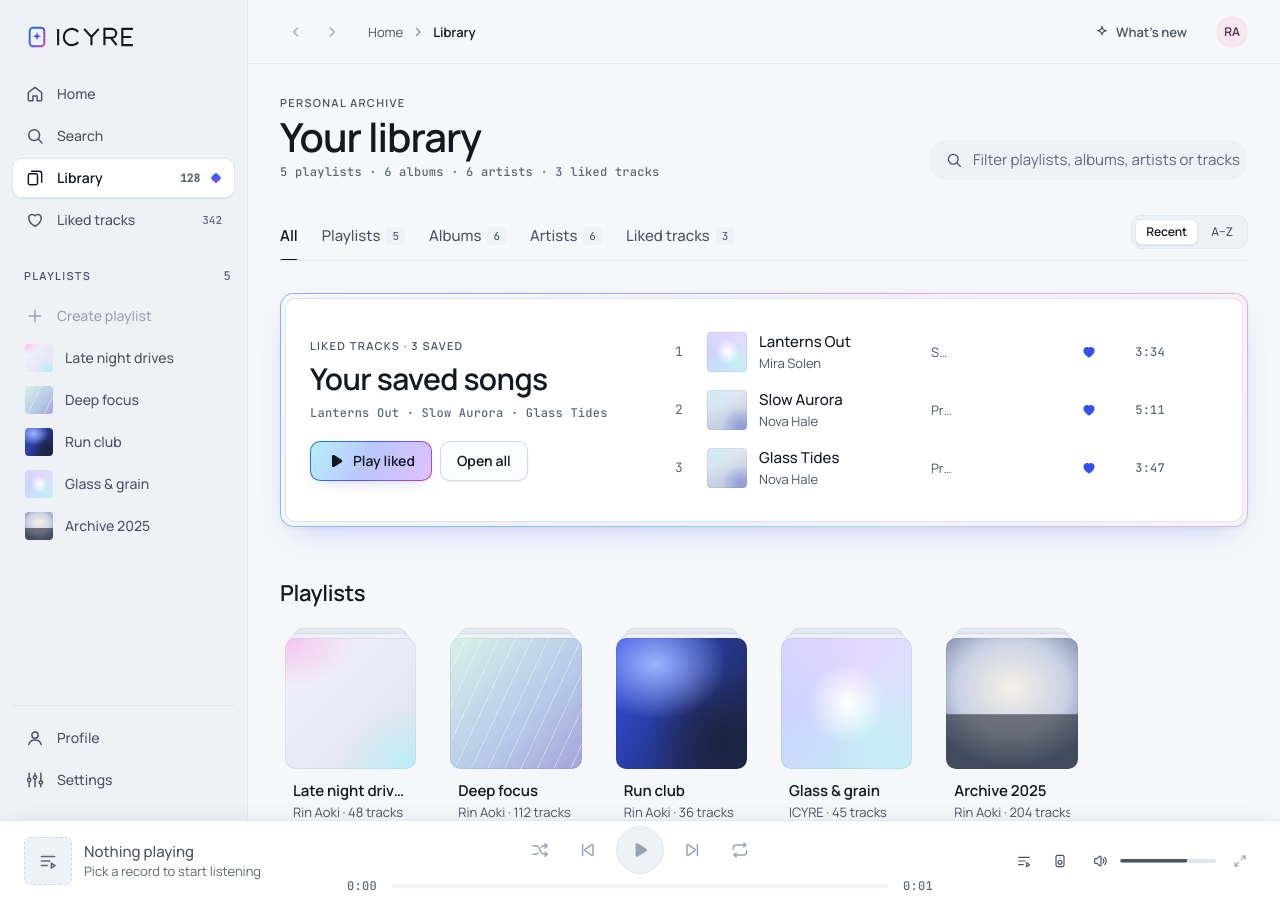
Test case: Library screen › filters library items and clears empty filter state
This screenshot has width=1280, height=900.
Check: the heading "Your library" is shown, box top-left (280, 109), bottom-right (481, 164)
Step 1. Type "Salt Lanterns" into the search field named "Filter library" → (1107, 160), box top-left (971, 148), bottom-right (1243, 172)
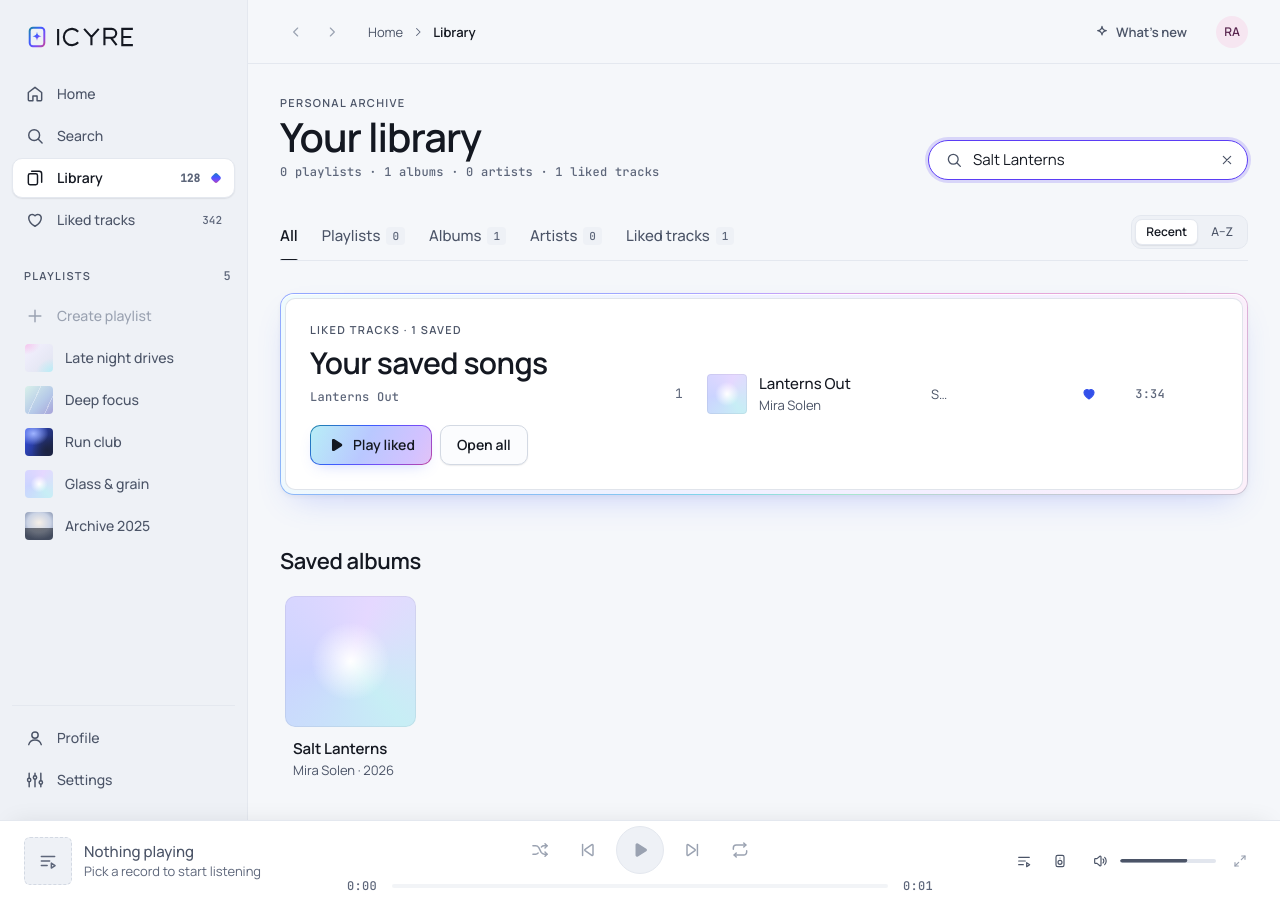
Check: the button "Salt Lanterns Mira Solen · 2026" is shown, box top-left (285, 727), bottom-right (416, 787)
Step 2. Clear the search field named "Filter library" → (1087, 160), box top-left (971, 148), bottom-right (1203, 172)
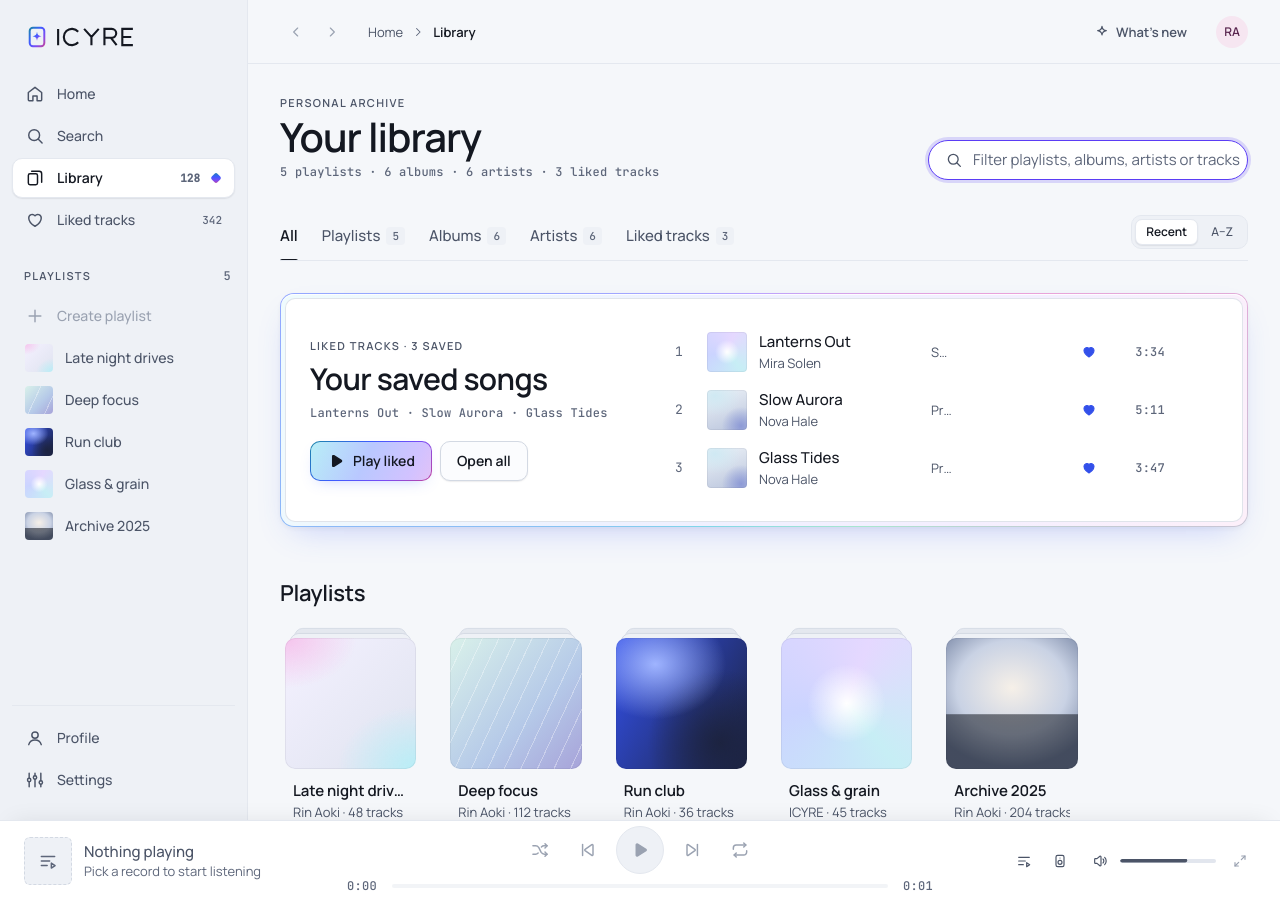
Step 3. Type "nonexistent-xyz" into the search field named "Filter library" → (1107, 160), box top-left (971, 148), bottom-right (1243, 172)
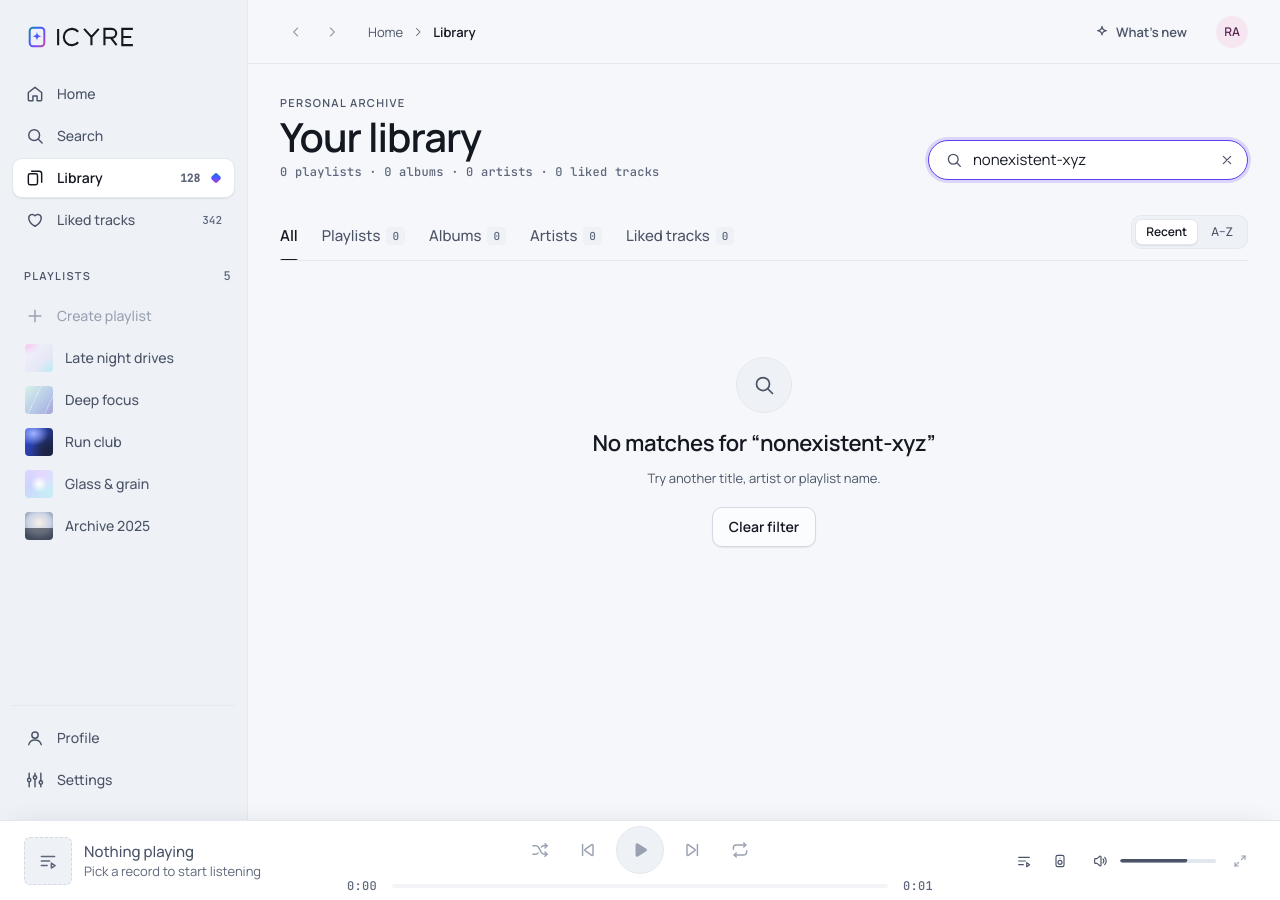
Check: the heading "No matches for “nonexistent-xyz”" is shown, box top-left (592, 429), bottom-right (935, 457)
Step 4. Click the button "Clear filter" → (764, 527), box top-left (712, 507), bottom-right (816, 547)
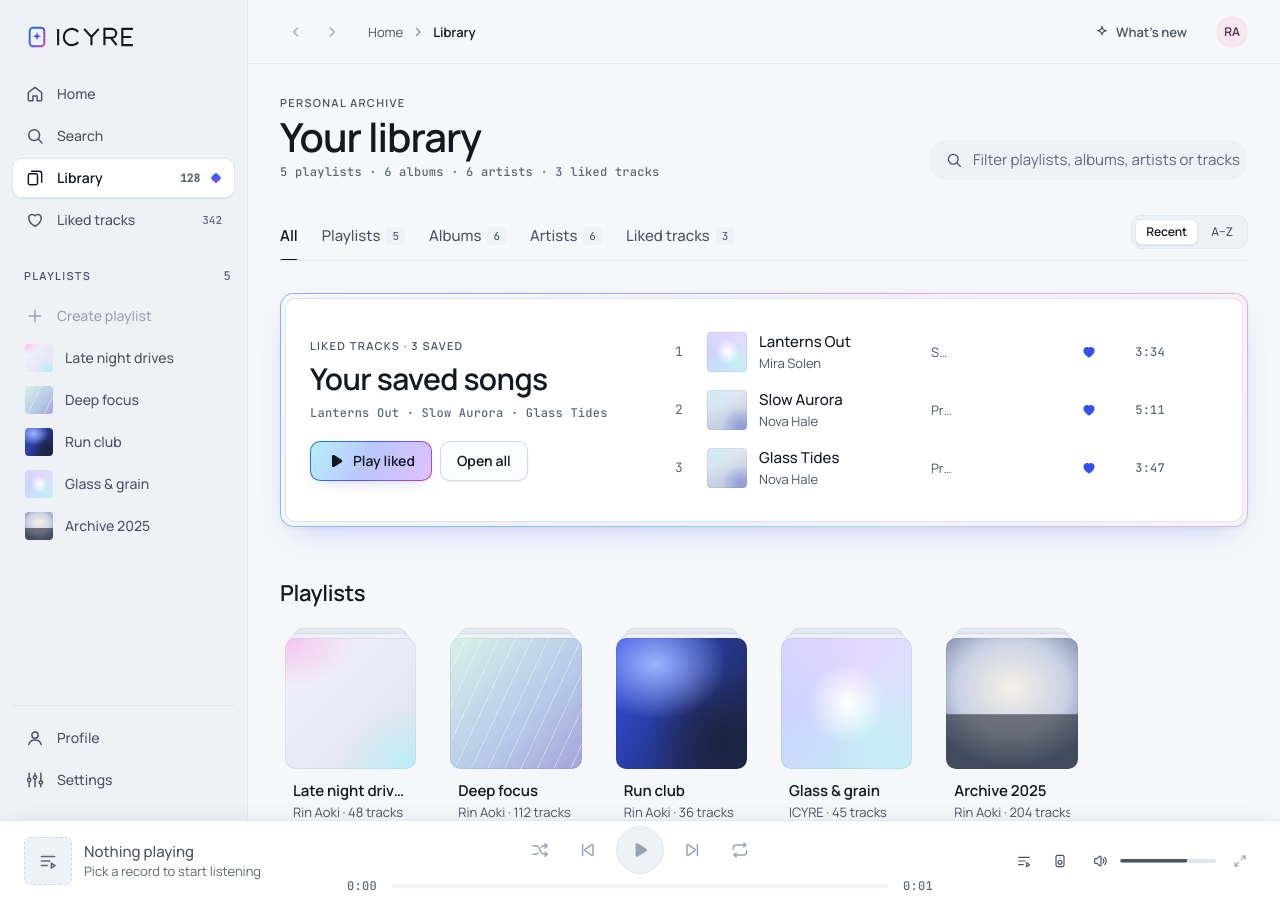
Check: the heading "Playlists" is shown, box top-left (280, 578), bottom-right (365, 608)
